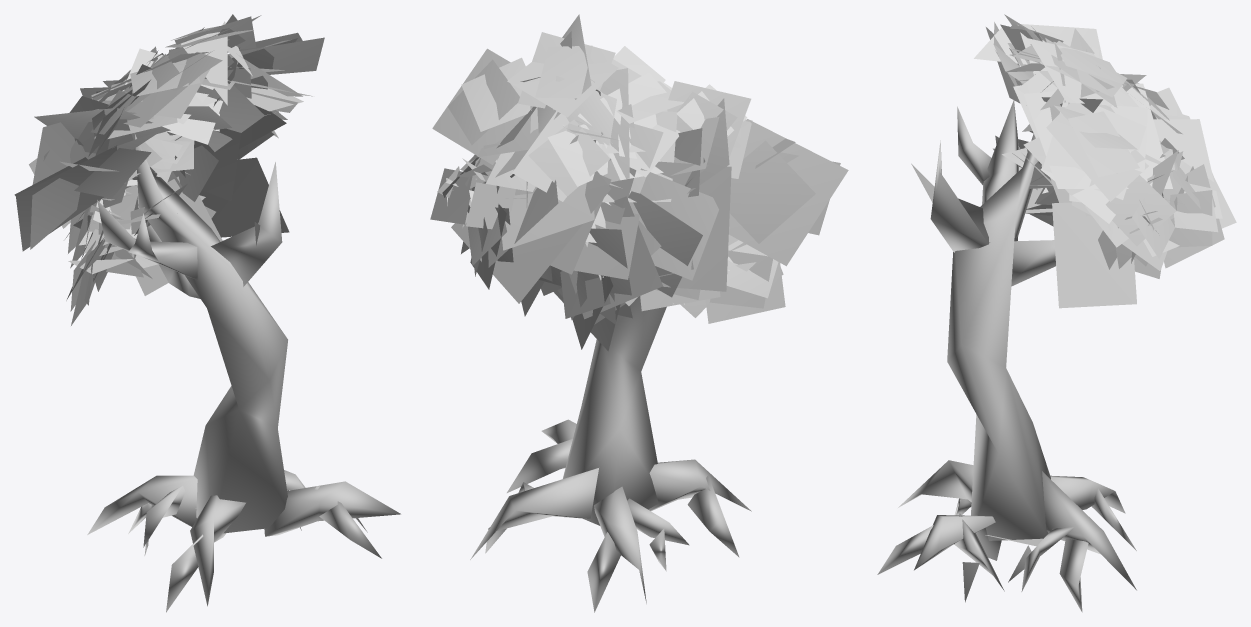
File: Tree-2_LP.fbx
3 renders of one model, left to right at view 1: azimuth 30°, elevation 25°; view 2: azimuth 150°, elevation 25°; view 3: azimuth 270°, elevation 25°, orthographic.
Parts seen in each view (by area): view 1: Tree_Leaves_LP_2, Tree_2_Trunk_LP; view 2: Tree_Leaves_LP_2, Tree_2_Trunk_LP; view 3: Tree_Leaves_LP_2, Tree_2_Trunk_LP.
Boxes of the visible parts, x1,y1,x2,y2 form: Tree_Leaves_LP_2: [14, 14, 324, 325]; Tree_2_Trunk_LP: [87, 133, 400, 612]; Tree_Leaves_LP_2: [430, 14, 848, 351]; Tree_2_Trunk_LP: [470, 296, 751, 612]; Tree_Leaves_LP_2: [974, 14, 1236, 308]; Tree_2_Trunk_LP: [877, 100, 1136, 612].
Bounding box in the file's own units: 2590 × 3740 × 2226.
